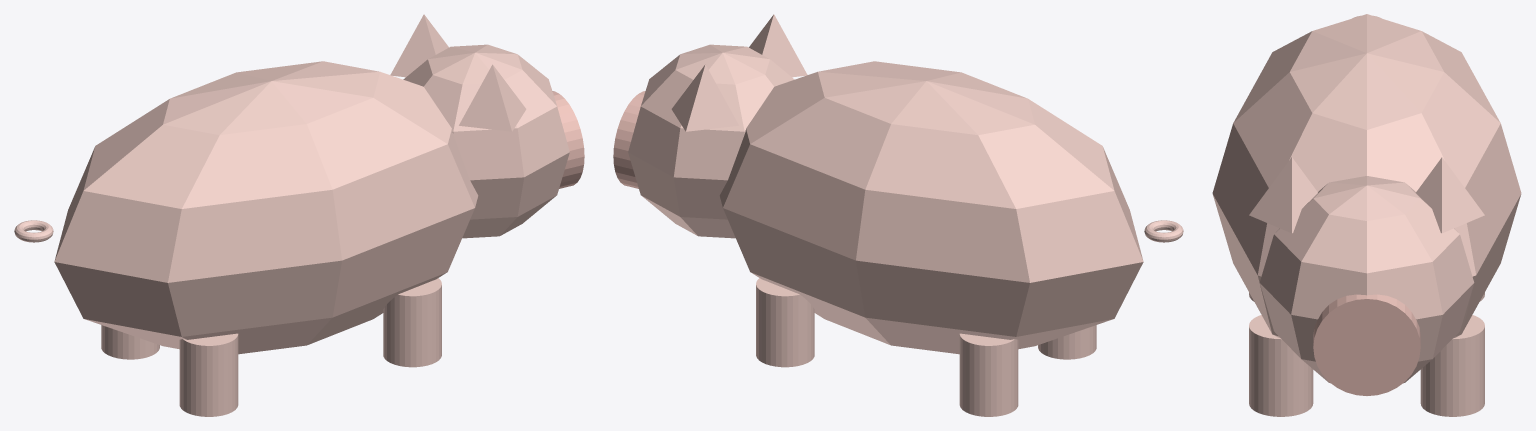
Rendered from pigs.glb.
The picture shows the model from 3 angles, left to right: view 1: azimuth 30°, elevation 25°; view 2: azimuth 150°, elevation 25°; view 3: azimuth 270°, elevation 25°; orthographic projection. The views are drawn at different scales.
Parts seen in each view (by area): view 1: pig_body, pig_head, pig_leg, pig_leg.002, pig_ear_-1, pig_ear_1, pig_snout, pig_leg.001, pig_tail; view 2: pig_body, pig_head, pig_leg.001, pig_leg.003, pig_ear_1, pig_ear_-1, pig_snout, pig_leg, pig_tail; view 3: pig_body, pig_head, pig_snout, pig_leg.002, pig_leg.003, pig_ear_-1, pig_ear_1.
Part boxes in pixels (<box>): pig_body: <box>54,61,478,354</box>; pig_head: <box>403,44,569,238</box>; pig_leg: <box>179,333,238,416</box>; pig_leg.002: <box>383,278,441,367</box>; pig_ear_-1: <box>459,64,526,131</box>; pig_ear_1: <box>390,14,448,77</box>; pig_snout: <box>552,91,584,188</box>; pig_leg.001: <box>101,325,159,359</box>; pig_tail: <box>14,220,53,242</box>; pig_body: <box>719,61,1143,354</box>; pig_head: <box>628,44,794,238</box>; pig_leg.001: <box>959,333,1018,416</box>; pig_leg.003: <box>756,278,814,367</box>; pig_ear_1: <box>671,64,738,131</box>; pig_ear_-1: <box>749,14,807,77</box>; pig_snout: <box>613,91,645,188</box>; pig_leg: <box>1038,325,1096,359</box>; pig_tail: <box>1144,220,1183,242</box>; pig_body: <box>1212,14,1521,338</box>; pig_head: <box>1259,176,1474,383</box>; pig_snout: <box>1313,294,1420,395</box>; pig_leg.002: <box>1249,315,1313,416</box>; pig_leg.003: <box>1420,315,1484,416</box>; pig_ear_-1: <box>1249,157,1317,233</box>; pig_ear_1: <box>1416,157,1484,233</box>.
Size of the model in its own units: 0.32 by 0.152 by 0.144.
